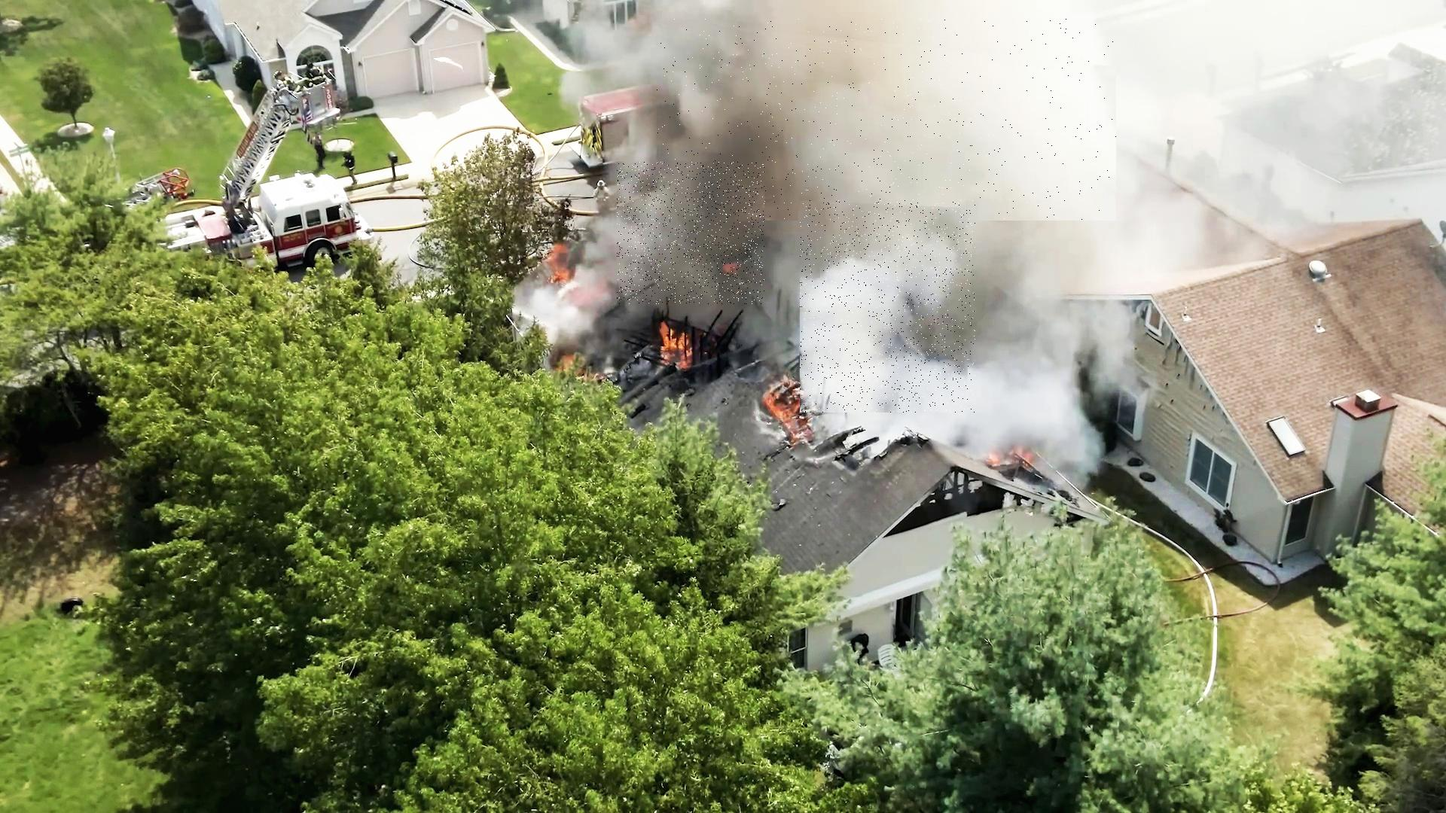smoke: (657, 19, 1118, 221), (800, 200, 976, 413), (617, 162, 765, 305)
